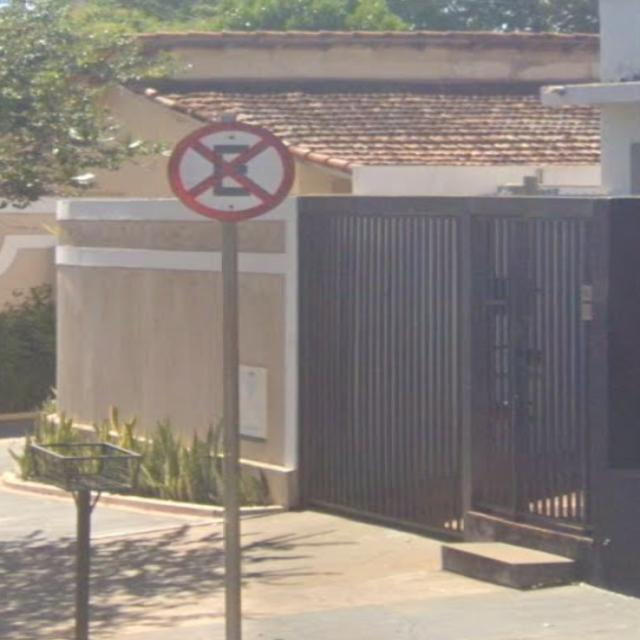no parking: (150, 111, 308, 224)
